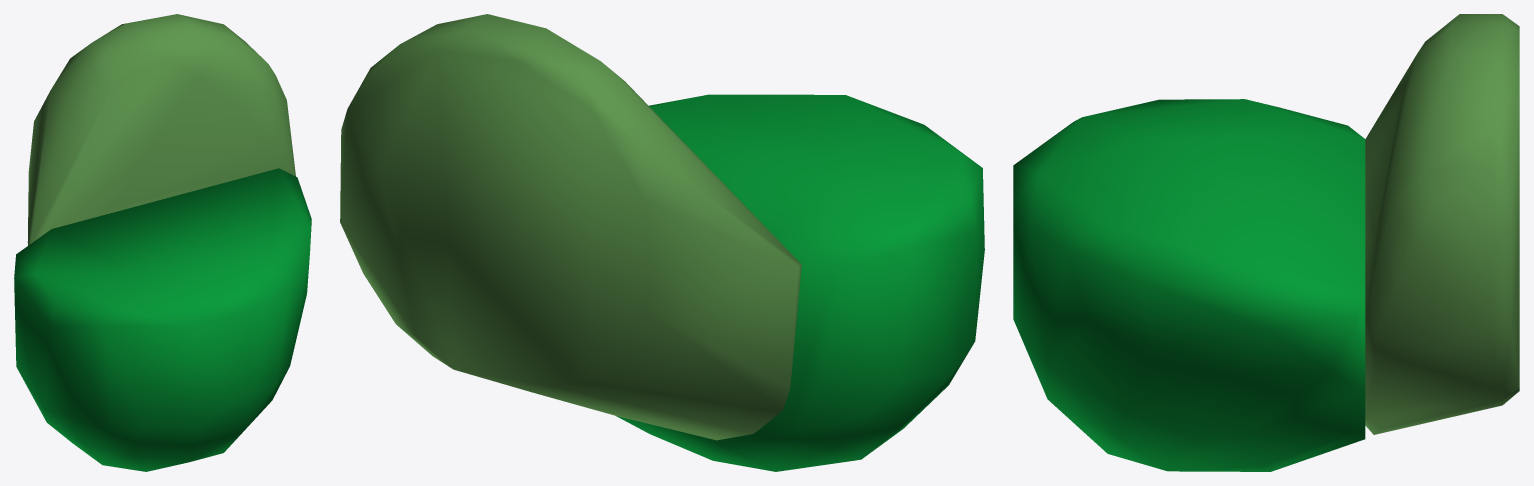
3 views of the same model, side by side, from view 1: azimuth 30°, elevation 25°; view 2: azimuth 150°, elevation 25°; view 3: azimuth 270°, elevation 25° (orthographic). The views are drawn at different scales.
Bounding box in the file's own units: 0.1396 × 0.1287 × 0.1287.
